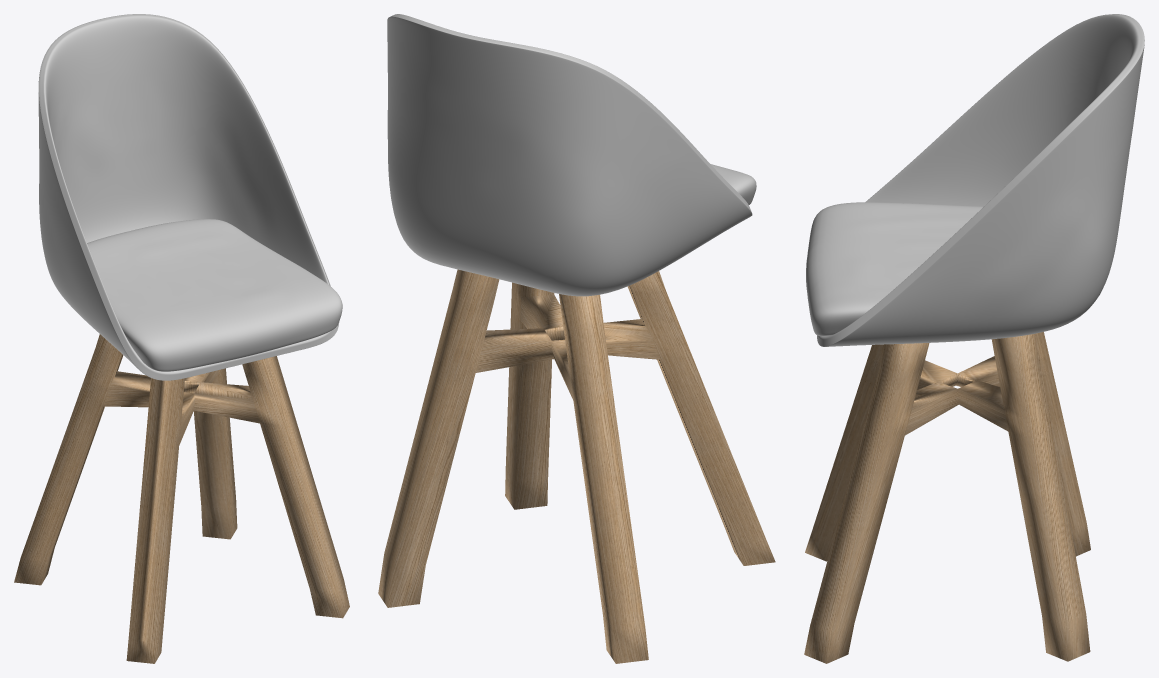
Rendered from testChair.gltf.
3 views of the same model, side by side, from view 1: azimuth 30°, elevation 25°; view 2: azimuth 150°, elevation 25°; view 3: azimuth 270°, elevation 25° (orthographic). The views are drawn at different scales.
Visible parts, largest first — view 1: Cube, Cube.002, Cube.003; view 2: Cube, Cube.002, Cube.003; view 3: Cube, Cube.002, Cube.003.
Part boxes in pixels (bbox=[...]): Cube: bbox=[38, 14, 339, 380]; Cube.002: bbox=[14, 334, 349, 663]; Cube.003: bbox=[87, 219, 342, 371]; Cube: bbox=[387, 14, 752, 296]; Cube.002: bbox=[378, 269, 775, 663]; Cube.003: bbox=[710, 164, 756, 204]; Cube: bbox=[817, 14, 1144, 346]; Cube.002: bbox=[804, 332, 1090, 663]; Cube.003: bbox=[806, 202, 983, 336].
Size of the model in its own units: 1.76 by 3.76 by 2.05.
